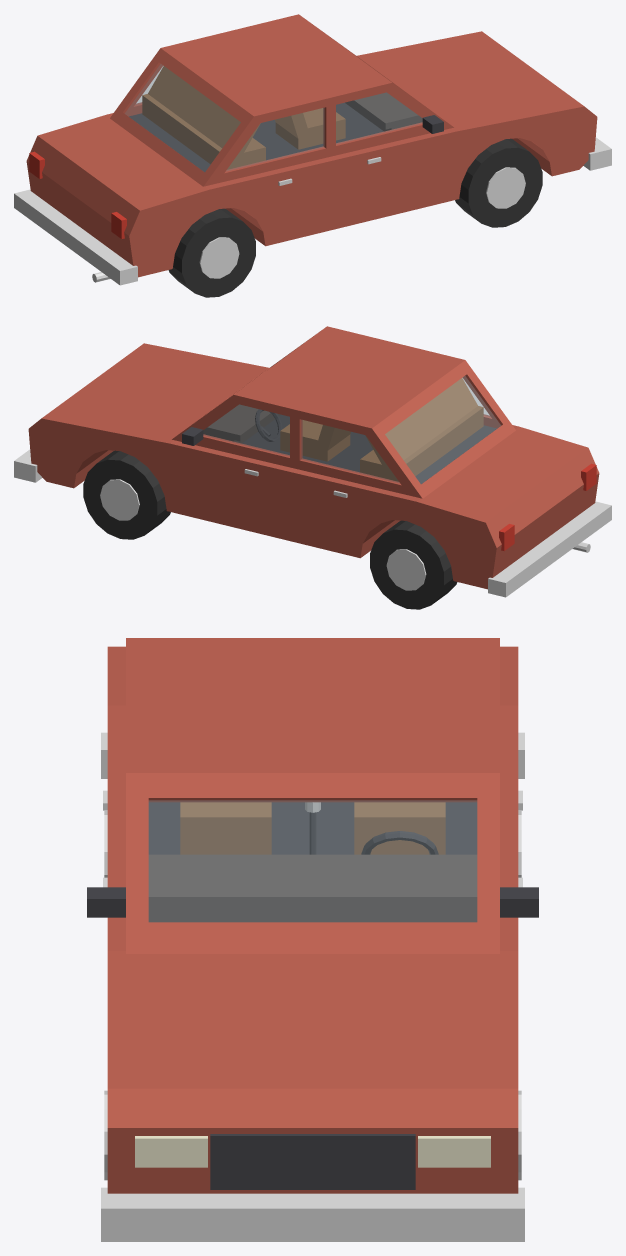
Rendered from sedan.glb.
3 renders of one model, top to bottom at view 1: azimuth 30°, elevation 25°; view 2: azimuth 150°, elevation 25°; view 3: azimuth 270°, elevation 25°, orthographic. The views are drawn at different scales.
Visible parts, largest first — view 1: Body.001, Glass.001, Tire.001, Seat.001, Chrome.001, Dark.001, Dash.001, Tail.001; view 2: Body.001, Glass.001, Tire.001, Seat.001, Chrome.001, Dark.001, Dash.001, Tail.001; view 3: Body.001, Glass.001, Chrome.001, Dash.001, Dark.001, Seat.001, Headlight.001.
Boxes of the visible parts, <box> form: Body.001: <box>26,14,597,277</box>; Glass.001: <box>125,64,422,171</box>; Tire.001: <box>168,138,542,297</box>; Seat.001: <box>142,66,345,169</box>; Chrome.001: <box>14,137,611,285</box>; Dark.001: <box>129,102,443,172</box>; Dash.001: <box>345,92,422,131</box>; Tail.001: <box>29,151,126,238</box>; Body.001: <box>28,326,599,589</box>; Glass.001: <box>203,376,500,483</box>; Tire.001: <box>83,450,457,609</box>; Seat.001: <box>280,378,483,481</box>; Chrome.001: <box>14,449,611,597</box>; Dark.001: <box>182,409,496,484</box>; Dash.001: <box>203,404,280,443</box>; Tail.001: <box>499,463,596,550</box>; Body.001: <box>107,638,518,1193</box>; Glass.001: <box>149,800,476,921</box>; Chrome.001: <box>101,732,524,1241</box>; Dash.001: <box>148,854,477,922</box>; Dark.001: <box>87,802,538,1189</box>; Seat.001: <box>180,802,445,854</box>; Headlight.001: <box>135,1136,490,1167</box>.
Size of the model in its own units: 4.99 by 1.62 by 1.98.
